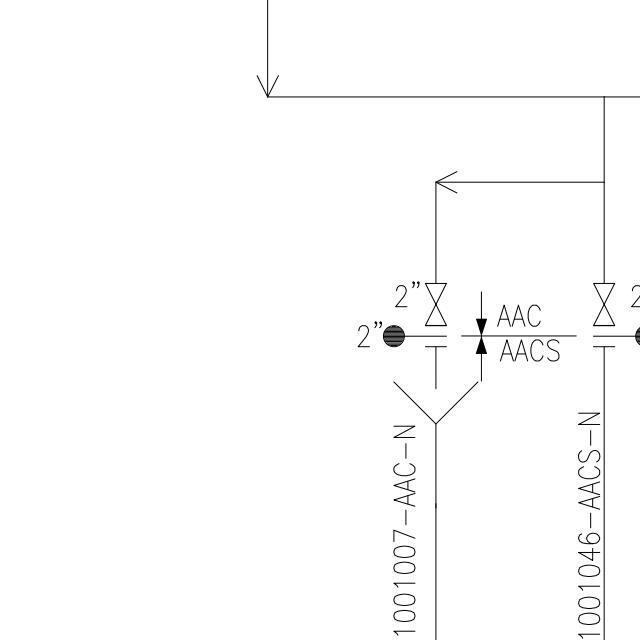GV: (423, 280, 449, 329), (592, 281, 617, 329)
